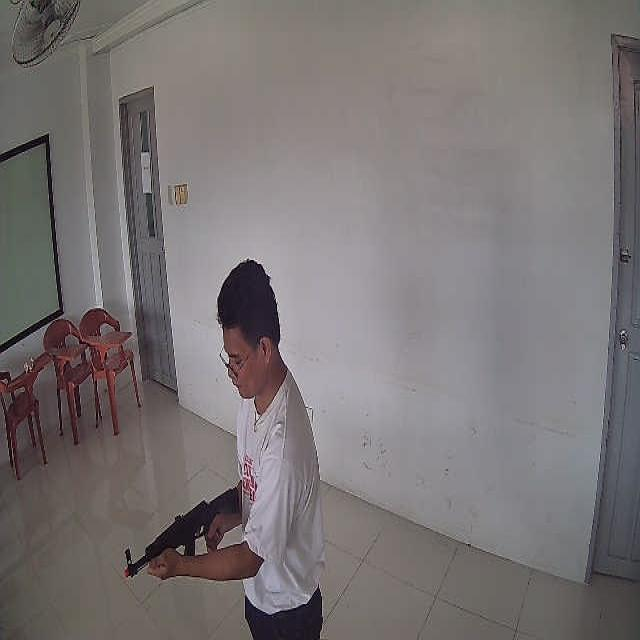rifle: (123, 486, 239, 578)
